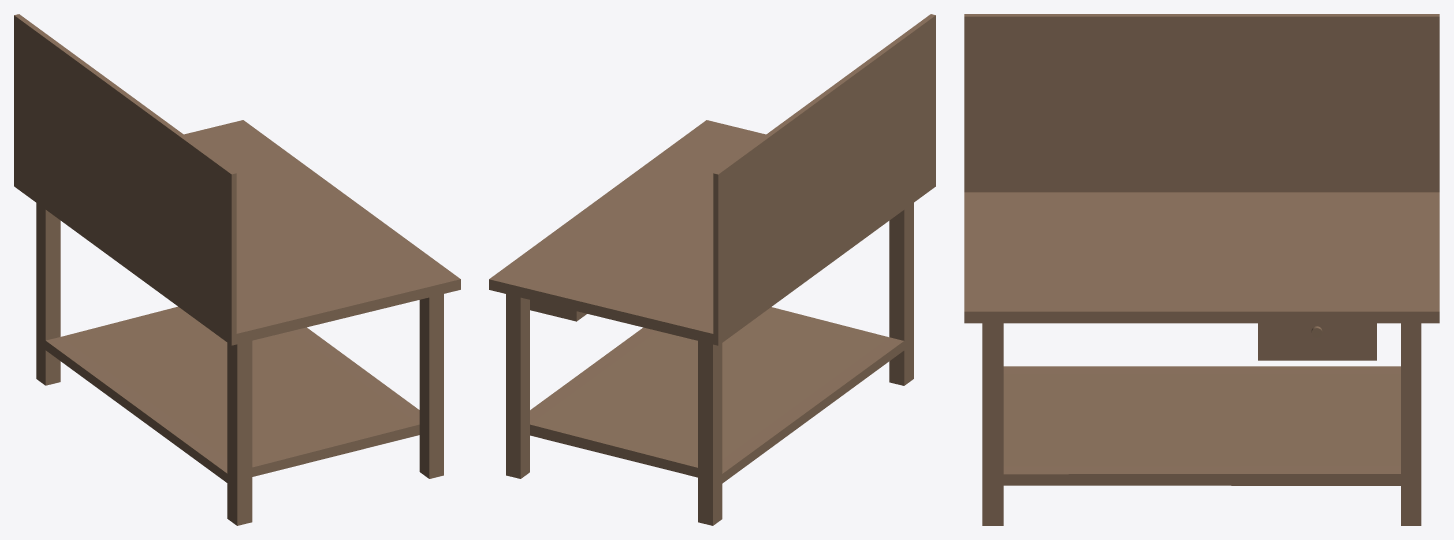
Rendered from Worktable.fbx.
The picture shows the model from 3 angles, left to right: view 1: azimuth 30°, elevation 25°; view 2: azimuth 150°, elevation 25°; view 3: azimuth 270°, elevation 25°; orthographic projection. The views are drawn at different scales.
Visible parts, largest first — view 1: Cube; view 2: Cube; view 3: Cube.
Boxes of the visible parts, bbox=[...] form: Cube: bbox=[14, 14, 460, 525]; Cube: bbox=[489, 14, 935, 525]; Cube: bbox=[964, 14, 1439, 525].
Bounding box in the file's own units: 483 × 727 × 794.
